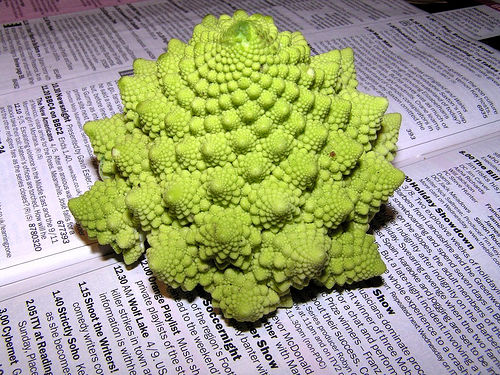cauliflower: (67, 10, 406, 328)
